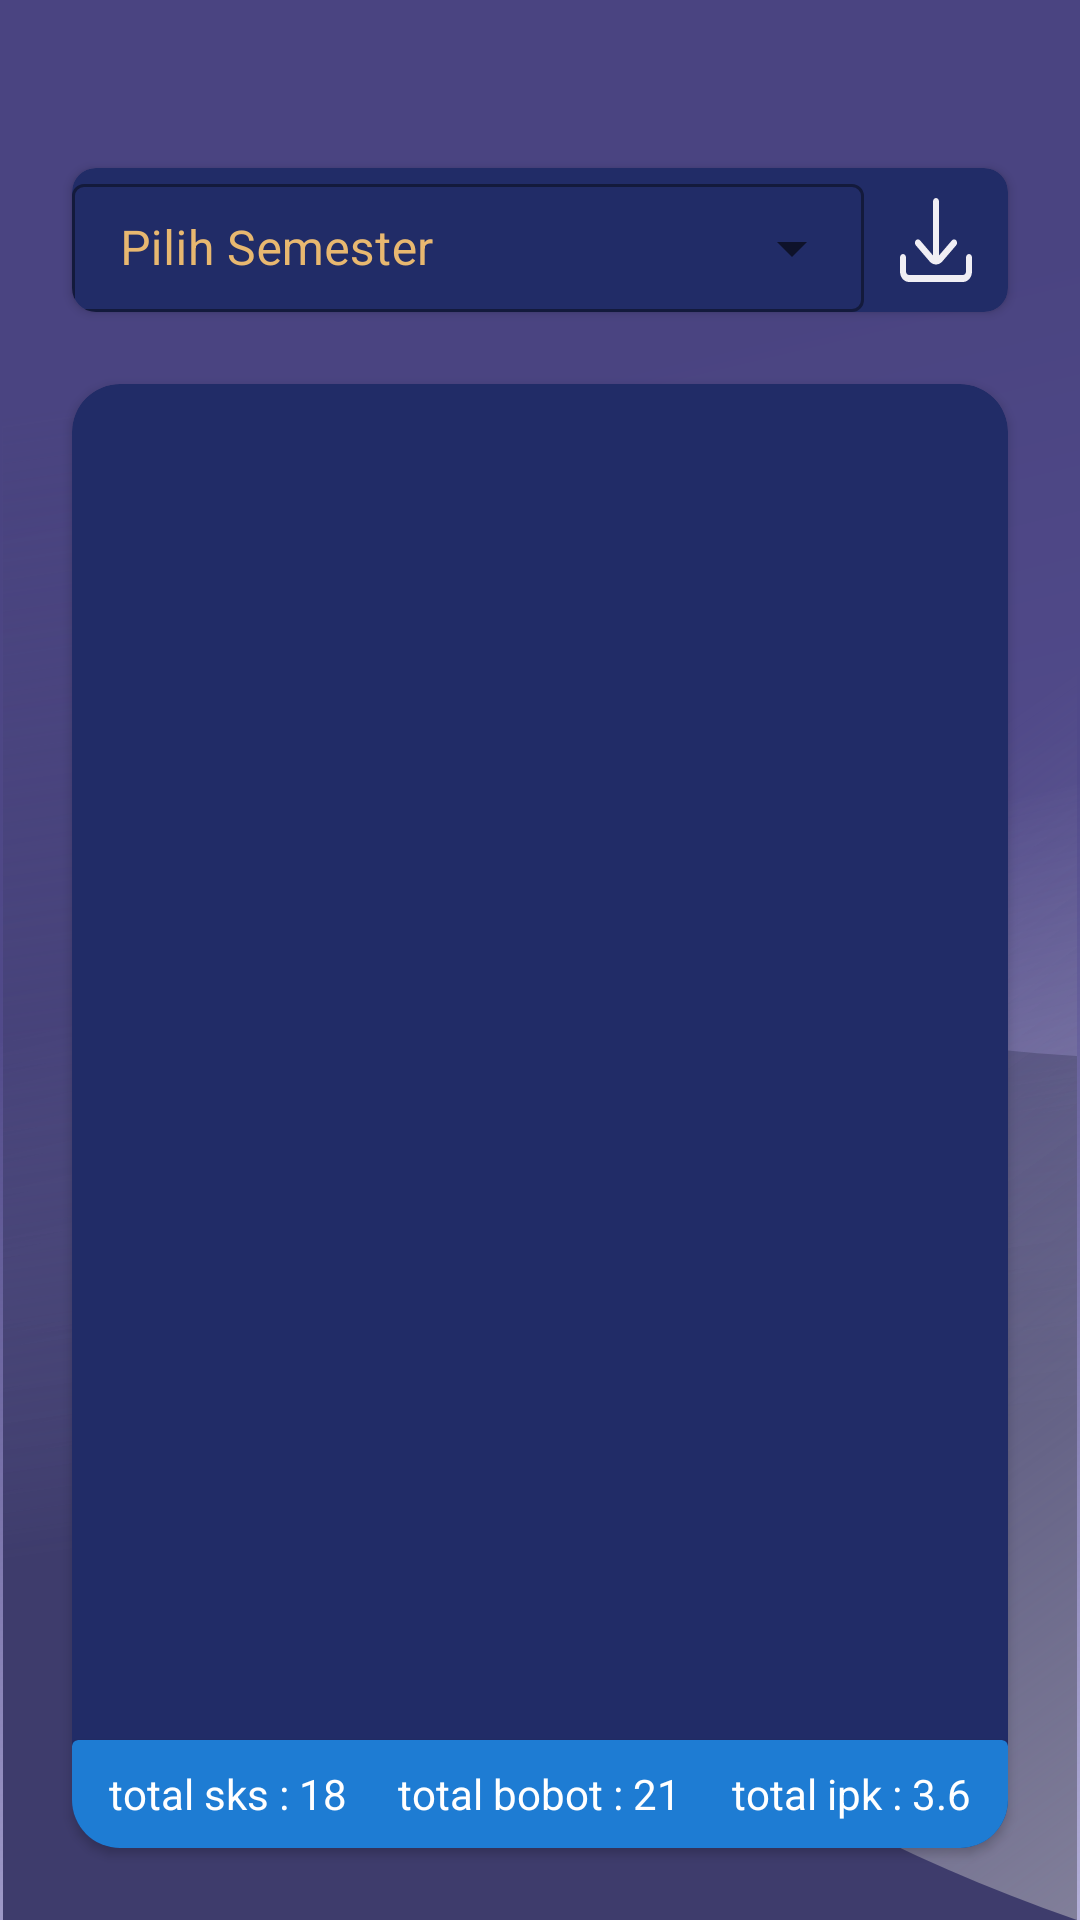

Where icons sit on this 1080px×1920px app screen, as (x1, y1, x2, y2):
khs download: (864, 168, 1008, 312)
